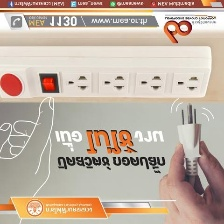three_eye_plug: (0, 40, 214, 99)
